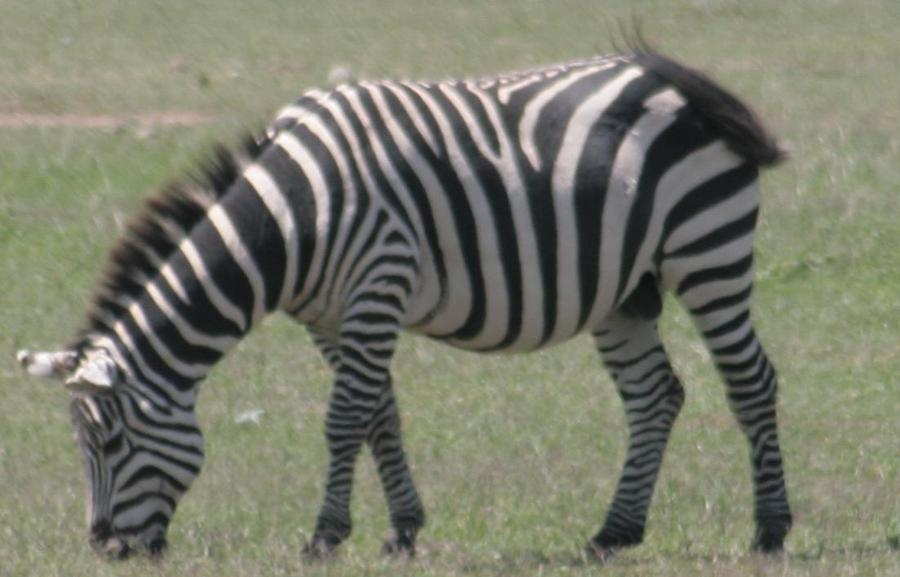zebra_plains: (240, 18, 840, 392)
